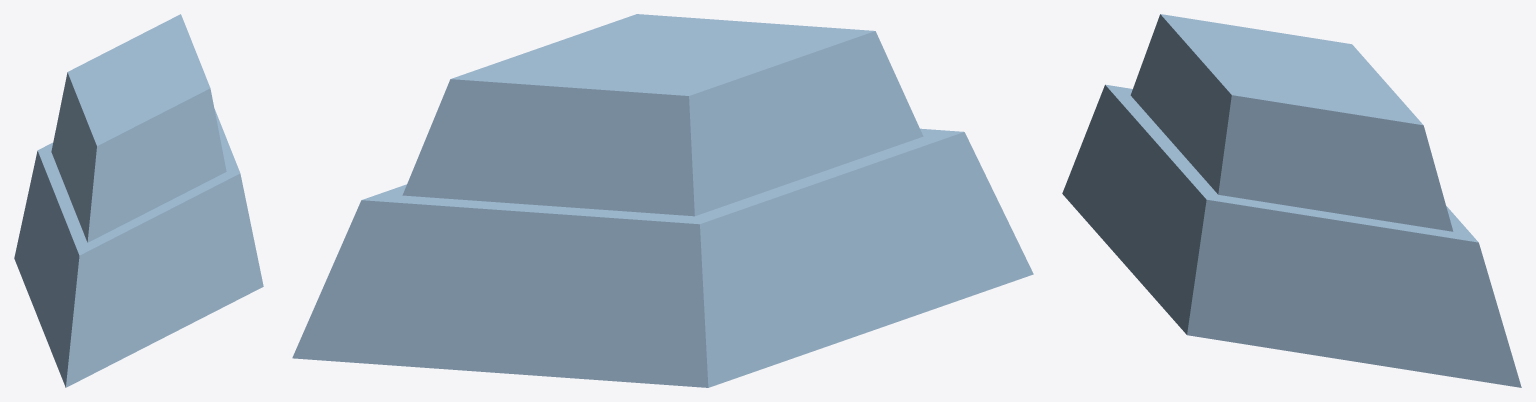
File: item-iron.glb
3 renders of one model, left to right at view 1: azimuth 30°, elevation 25°; view 2: azimuth 150°, elevation 25°; view 3: azimuth 270°, elevation 25°, orthographic. The views are drawn at different scales.
Parts seen in each view (by area): view 1: item-iron; view 2: item-iron; view 3: item-iron.
Boxes of the visible parts, left/top/right/bottom form: item-iron: left=14, top=14, right=263, bottom=387; item-iron: left=292, top=14, right=1033, bottom=387; item-iron: left=1062, top=14, right=1521, bottom=387.
Size of the model in its own units: 0.3437 by 0.1825 by 0.3437.
